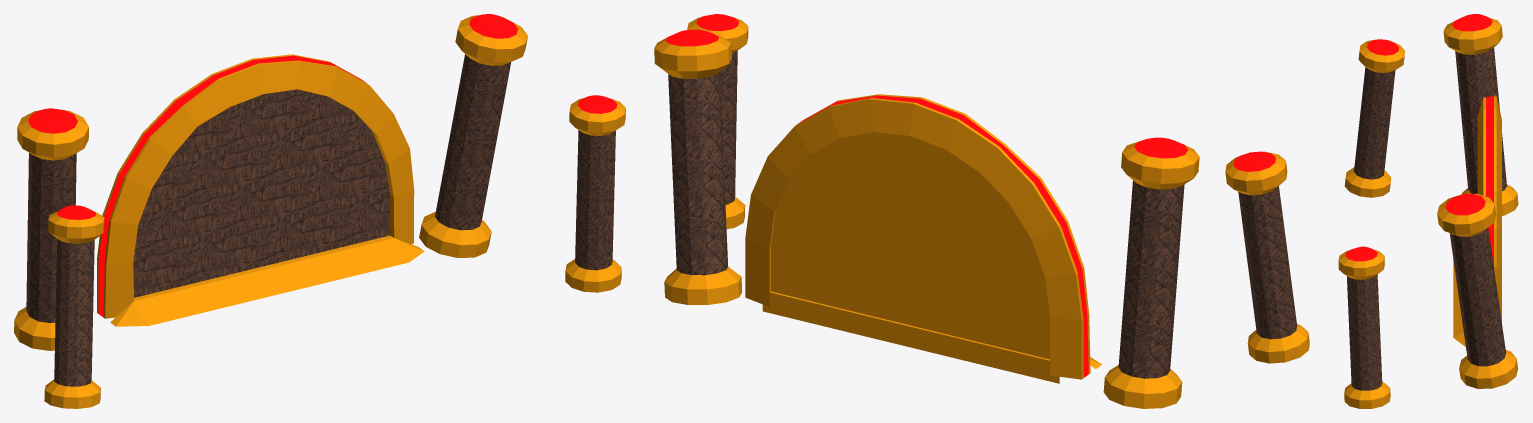
Rendered from maze-entry.glb.
3 views of the same model, side by side, from view 1: azimuth 30°, elevation 25°; view 2: azimuth 150°, elevation 25°; view 3: azimuth 270°, elevation 25° (orthographic). The views are drawn at different scales.
Visible parts, largest first — view 1: Cylinder, Cylinder.002, Cylinder.001, Cylinder.004, Cylinder.003; view 2: Cylinder, Cylinder.002, Cylinder.001, Cylinder.004, Cylinder.003; view 3: Cylinder.002, Cylinder.001, Cylinder.003, Cylinder.004, Cylinder.
Boxes of the visible parts, x1,y1,x2,y2 form: Cylinder: [97, 54, 424, 326]; Cylinder.002: [419, 14, 527, 257]; Cylinder.001: [14, 108, 88, 350]; Cylinder.004: [44, 205, 104, 408]; Cylinder.003: [565, 95, 625, 292]; Cylinder: [745, 94, 1101, 383]; Cylinder.002: [654, 29, 742, 304]; Cylinder.001: [1103, 137, 1199, 408]; Cylinder.004: [1225, 151, 1309, 363]; Cylinder.003: [687, 14, 748, 229]; Cylinder.002: [1437, 193, 1518, 388]; Cylinder.001: [1443, 14, 1518, 215]; Cylinder.003: [1338, 246, 1390, 408]; Cylinder.004: [1344, 39, 1405, 197]; Cylinder: [1453, 95, 1501, 346].
Size of what is drawn, in the model's own units: 4.41 by 1.77 by 1.48.
Materials: 3 (1 with a texture image).
